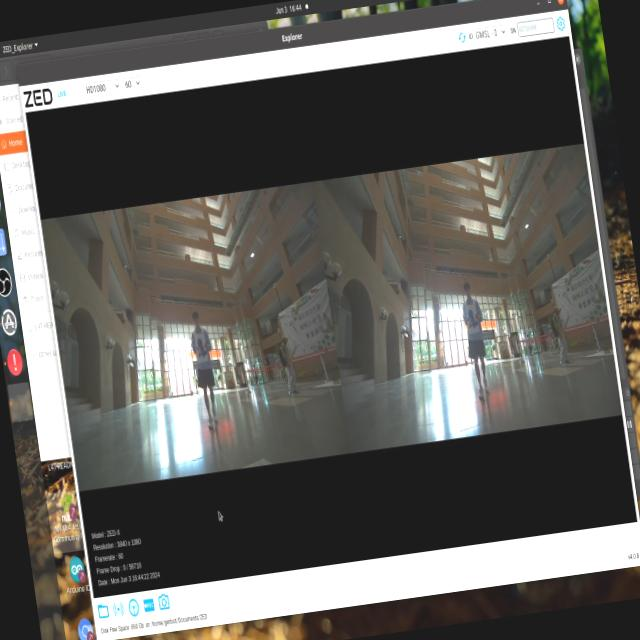blue: (192, 330, 208, 354), (470, 306, 478, 330)
